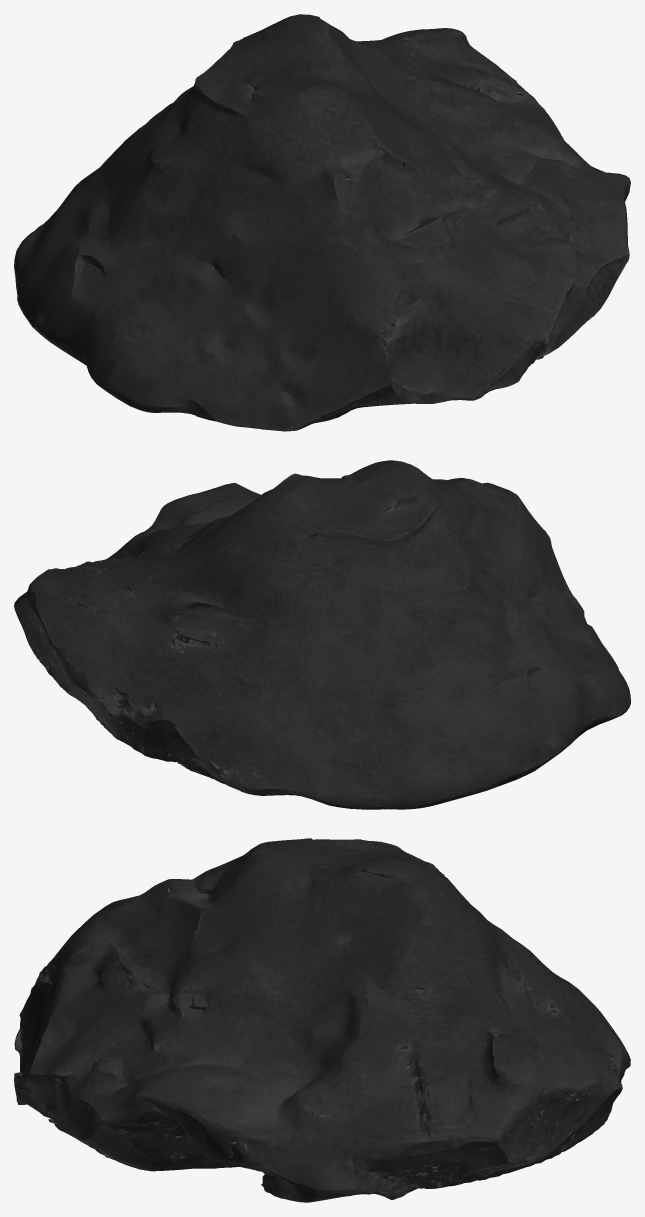
3 renders of one model, top to bottom at view 1: azimuth 30°, elevation 25°; view 2: azimuth 150°, elevation 25°; view 3: azimuth 270°, elevation 25°, orthographic. The views are drawn at different scales.
Visible parts, largest first — view 1: world; view 2: world; view 3: world.
Boxes of the visible parts, box(x1,y1,x2,y2) form: world: box(14, 14, 630, 431); world: box(14, 460, 630, 809); world: box(14, 838, 630, 1202).
Size of the model in its own units: 1.2 by 0.552 by 1.2.
1 material, 1 textured.
